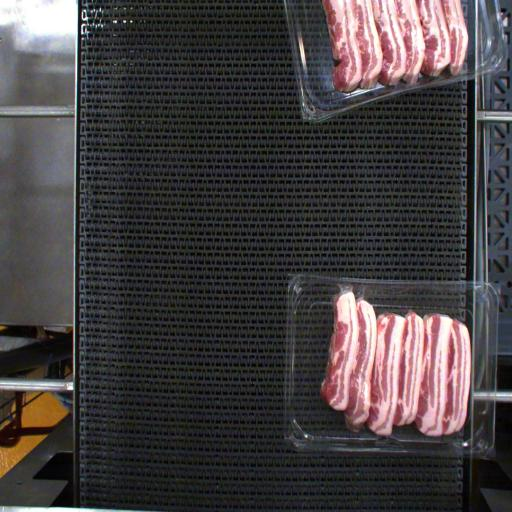packaging-error: (324, 274, 386, 308)
